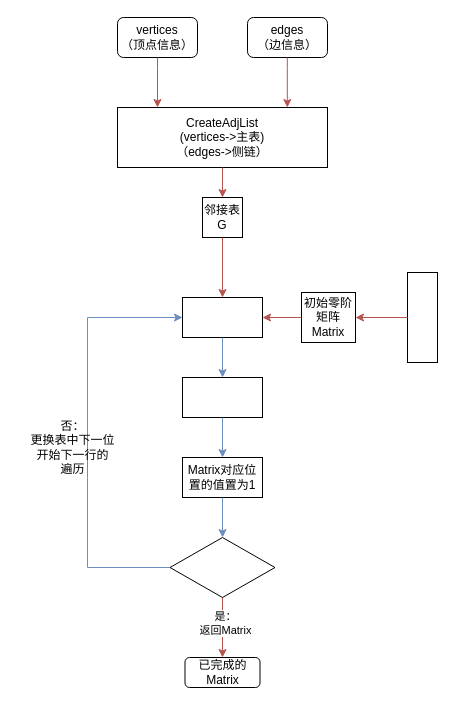
The diagram is 455 pixels wide and 705 high, and some of its shapes have lost their labels. Each missing label, with the box of its shape:
G的遍历 是否完成: (169, 536, 275, 598)
初始化归零操作: (406, 272, 438, 362)
读取每条侧链中的已有连接: (182, 376, 262, 418)
进入G的 行遍历: (182, 296, 262, 338)
